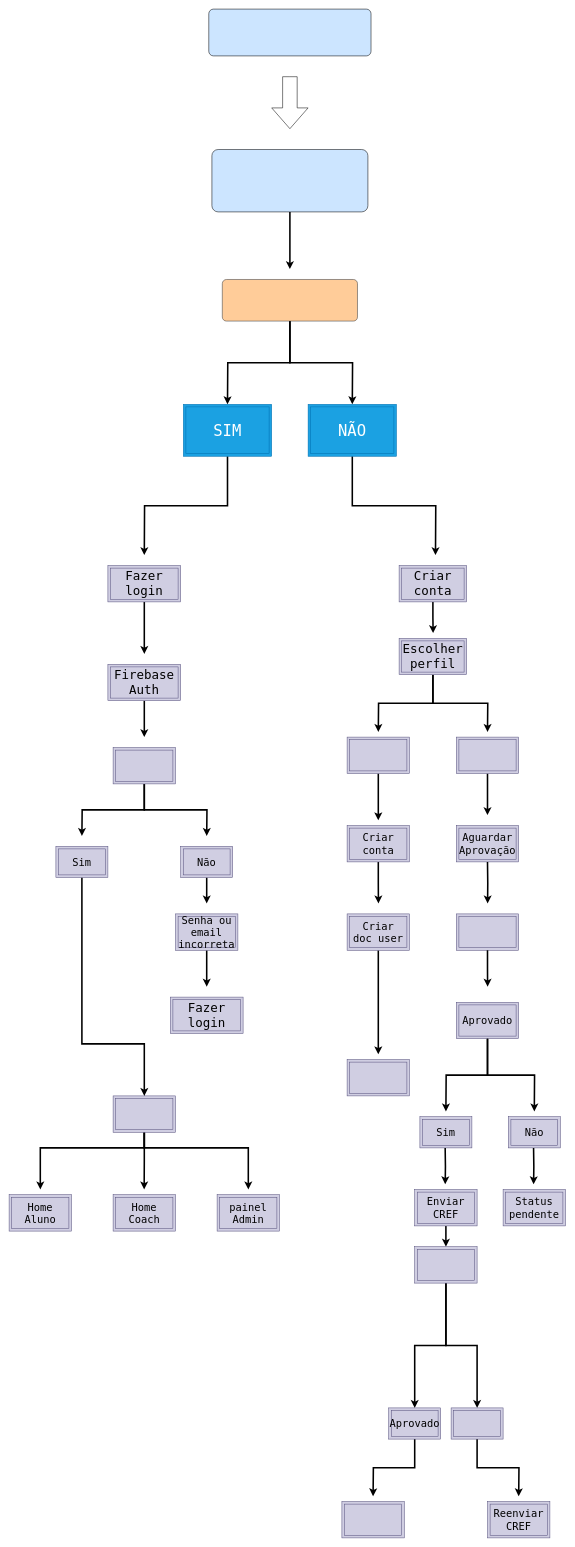
This 575x1547 diagram has some shape labels left out. The shapes that lost their labels are listed below. From the top down, each one's centre as x and y in pixels, then its label:
(289,32): Abrir aplicativo
(289,180): Tela de login
(290,300): Possui conta?
(144,765): Login Realizado?
(378,755): Aluno
(487,755): Coach
(487,931): Pendente
(378,1077): Homepag
(144,1113): Identificar Perfl
(445,1264): Aprovação do ADM
(477,1423): Recusado
(372,1519): Homepag/ Coach
